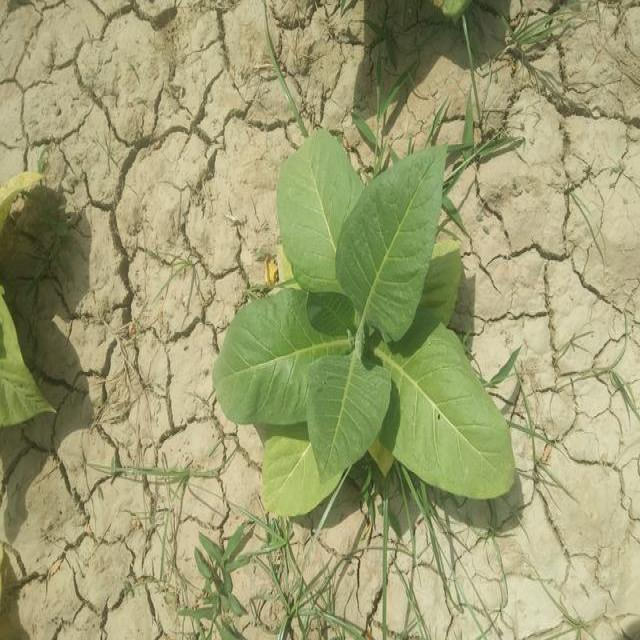crop: (217, 133, 524, 518)
